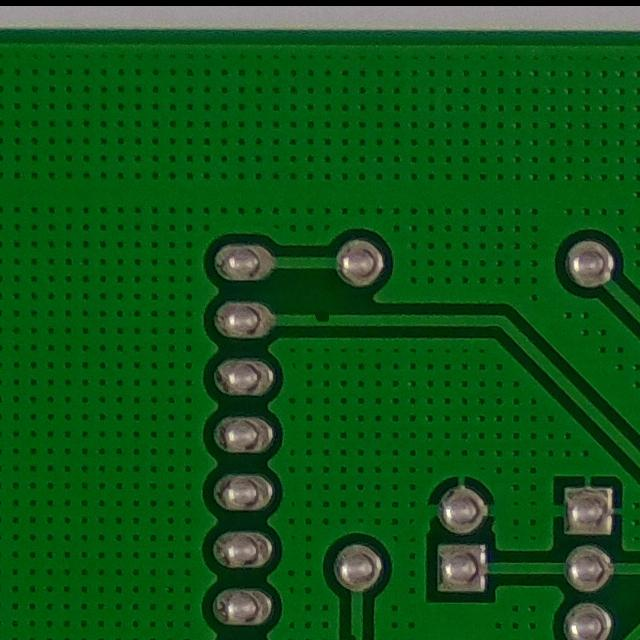mouse_bite: (300, 302, 341, 337)
